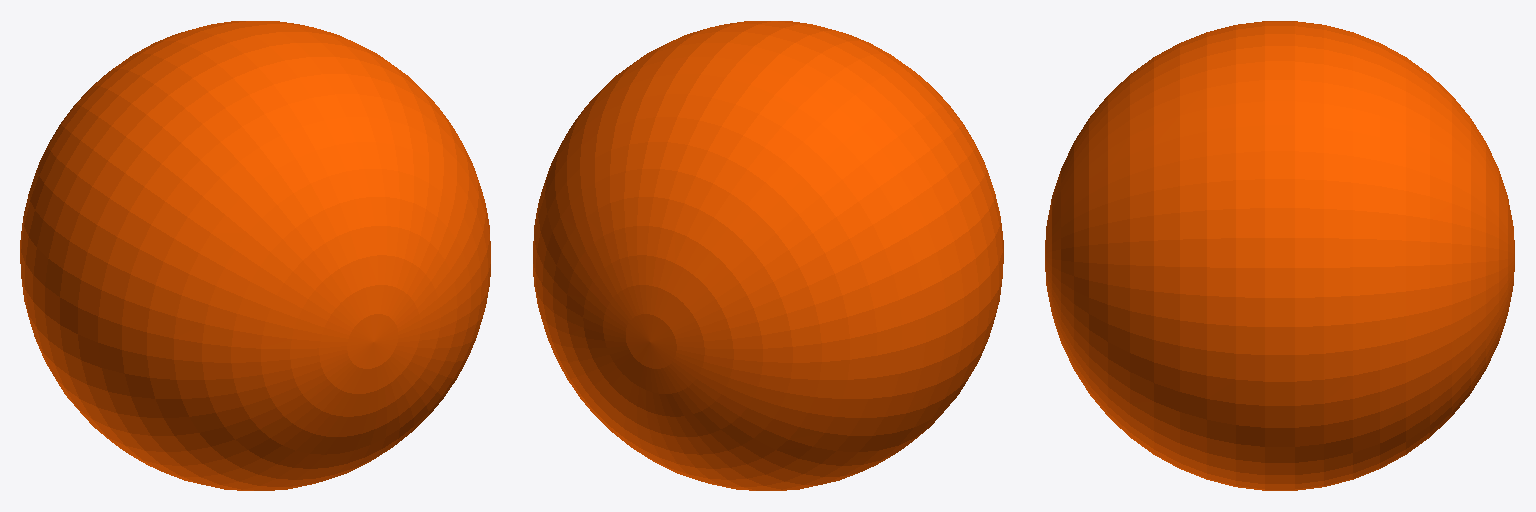
robot.urdf — lbr_iiwa:
<robot name="lbr_iiwa" xmlns:xacro="http://www.ros.org/wiki/xacro">
  <!-- Import Rviz colors -->
  <material name="Grey">
    <color rgba="0.2 0.2 0.2 1.0"/>
  </material>
  <material name="Orange">
    <color rgba="1.0 0.423529411765 0.0392156862745 1.0"/>
  </material>
  <material name="Blue">
    <color rgba="0.5 0.7 1.0 1.0"/>
  </material>
  <material name="Red">
    <color rgba="0.8 0 0 1"/>
  </material>
  <link name="link_0">
  </link>
  <link name="link_1">
    <inertial>
      <origin rpy="0 0 0" xyz="0 0 0"/>
      <!--Increase mass from 5 Kg original to provide a stable base to carry the
          arm.-->
      <mass value="0.02"/>
      <inertia ixx="0.001" ixy="0" ixz="0" iyy="0.001" iyz="0" izz="0.001"/>
    </inertial>
    <visual>
      <origin rpy="0 0 0" xyz="0 0 0"/>
      <geometry>
        <mesh filename="ball.obj"/>
      </geometry>
      <material name="Orange"/>
    </visual>
    <collision>
      <origin rpy="0 0 0" xyz="0 0 0"/>
      <geometry>
        <mesh filename="ball.stl"/>
      </geometry>
    </collision>
  </link>
  <!-- joint between link_0 and link_1 -->
  <joint name="joint_1" type="fixed">
    <parent link="link_0"/>
    <child link="link_1"/>
    <origin rpy="0 0 0" xyz="0 0 0"/>
    <axis xyz="0 0 1"/>
  </joint>
</robot>

--- Facts derived from the render (not from the file) ---
Views: 3 orthographic renders of the robot side by side, from view 1: azimuth 30°, elevation 25°; view 2: azimuth 150°, elevation 25°; view 3: azimuth 270°, elevation 25°.
Model lbr_iiwa with 2 links and 1 joints (1 fixed), rooted at link_0, posed every joint at zero.
Links seen in each view (by area): view 1: link_1; view 2: link_1; view 3: link_1.
Boxes of the visible links, bbox=[...] form: link_1: bbox=[20, 21, 490, 490]; link_1: bbox=[533, 21, 1003, 490]; link_1: bbox=[1045, 21, 1514, 490].
Size in the robot's own frame: 0.0499 by 0.05 by 0.0499 metres.
Meshes: 1 distinct files referenced, 1 mesh visuals loaded (1 OBJ).